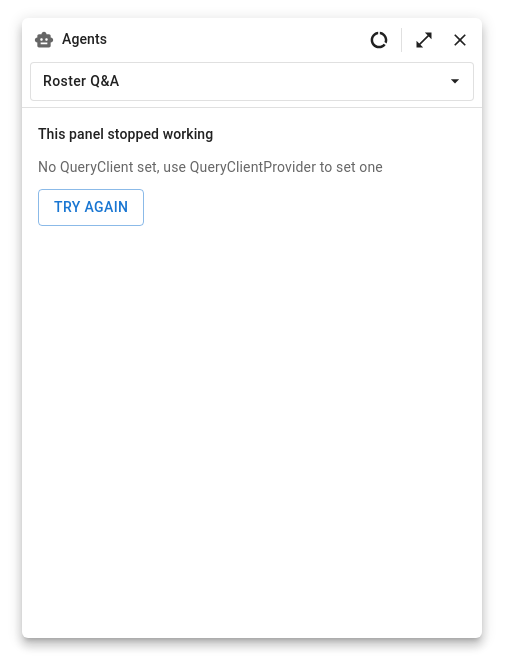
Test: staffing proposal approval (P1T-100) › announces that the decision is being recorded while it saves
Click the button "Roster Q&A": (81, 81) [30, 62, 474, 100]
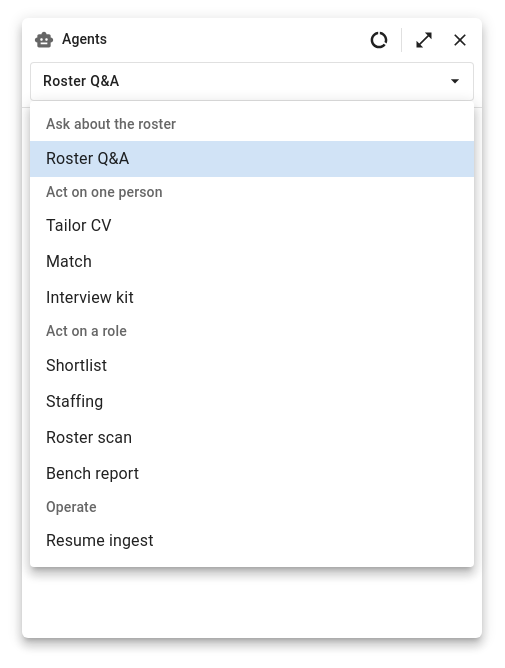
Click the menu item "Staffing": (75, 401) [46, 392, 104, 410]
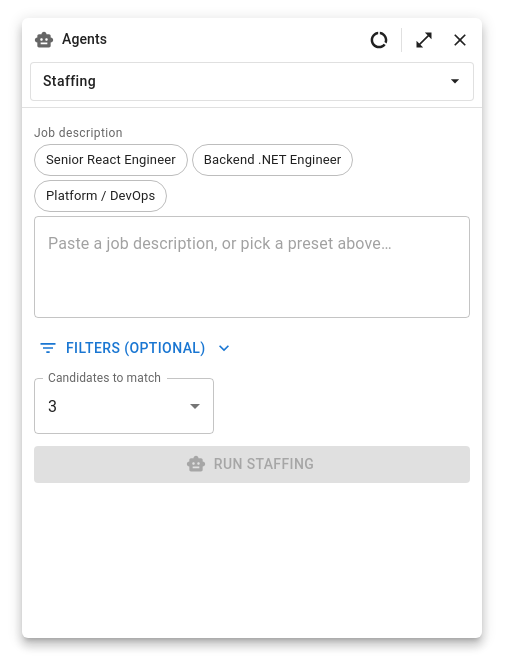
In the text box with placeholder "Paste a job description, or pick a preset above…": (252, 266) [48, 232, 456, 301], type "Senior React engineer"
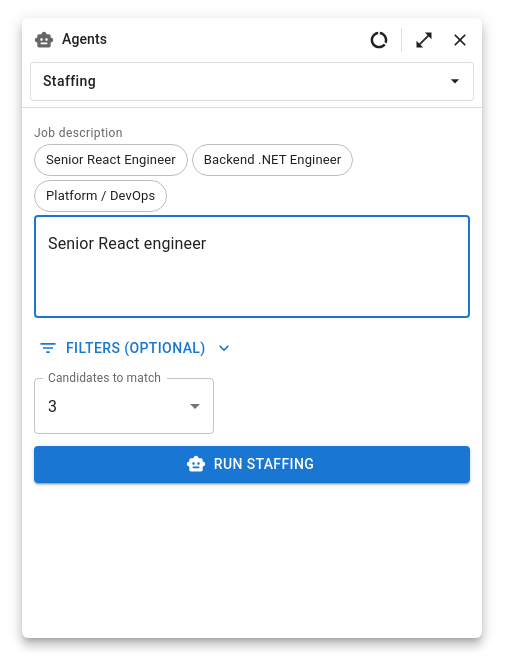
Click the button "Run staffing": (252, 464) [34, 446, 470, 482]
(page scrolled)
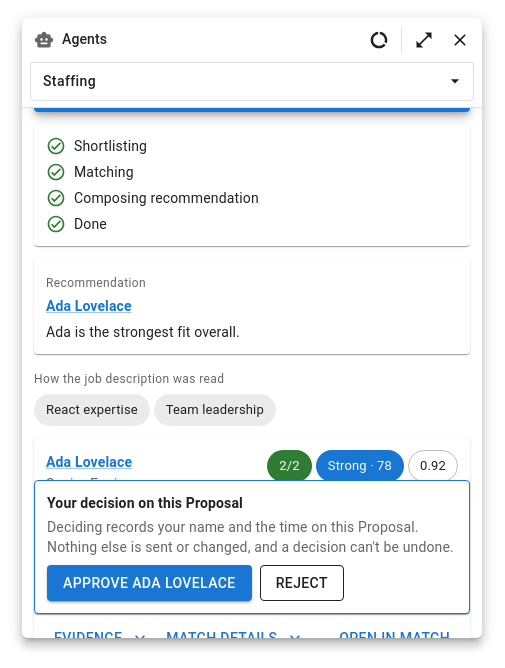
Now the element with test id "staffing-recommendation" is shown, box [34, 258, 470, 354]
Click the button "Approve Ada Lovelace": (149, 583) [47, 564, 252, 601]
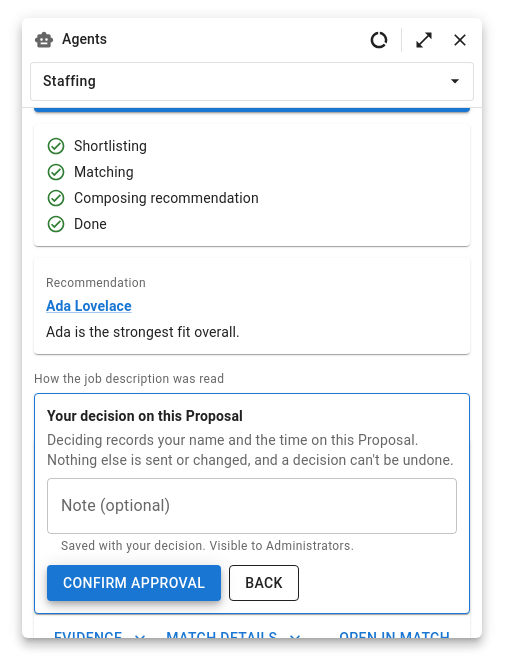
Click the button "Confirm approval": (134, 583) [47, 564, 221, 601]
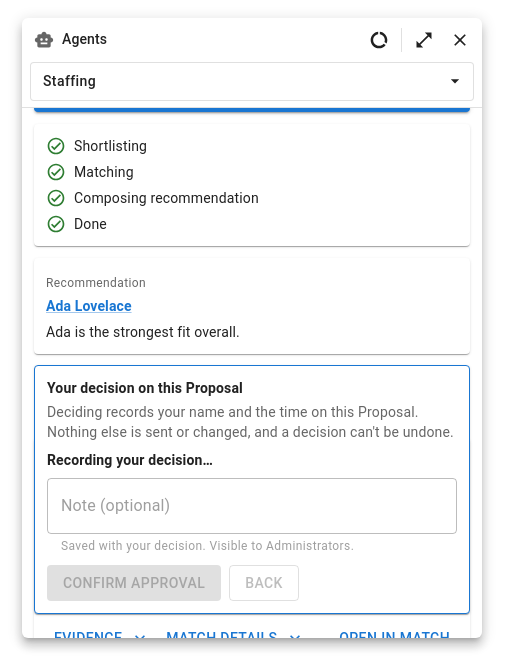
Now the message reads "Recording your decision…", box [47, 452, 213, 468]
